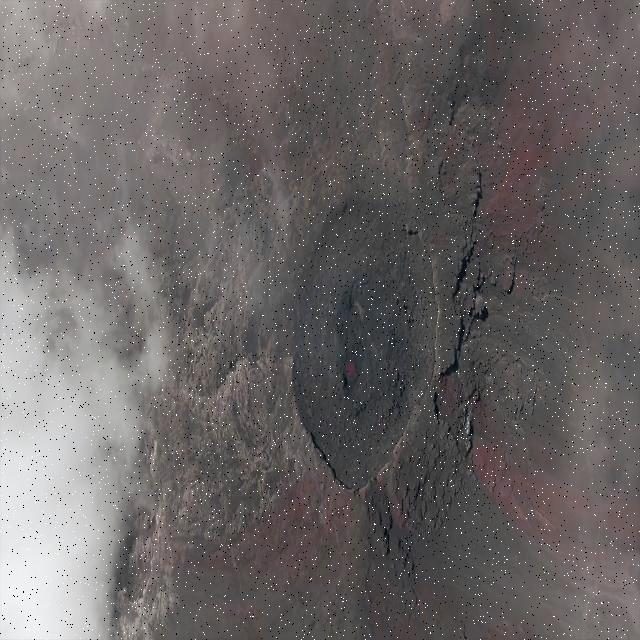Summit: (276, 166, 450, 514)
